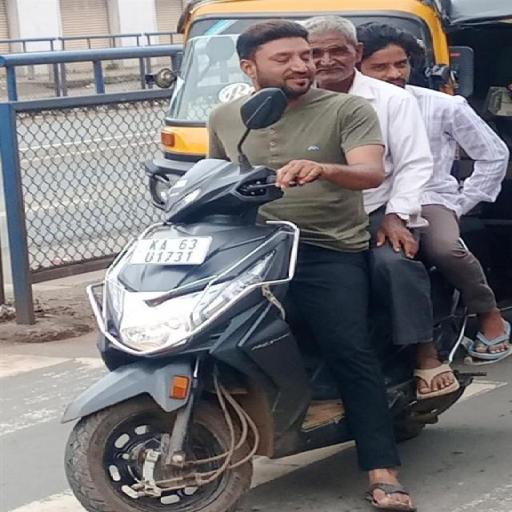tripple riding: (166, 23, 512, 211)
